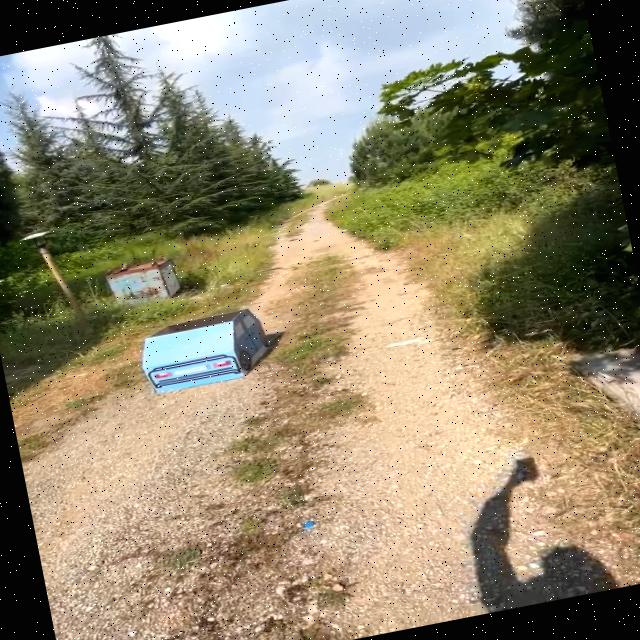blue_car: (117, 288, 294, 405)
